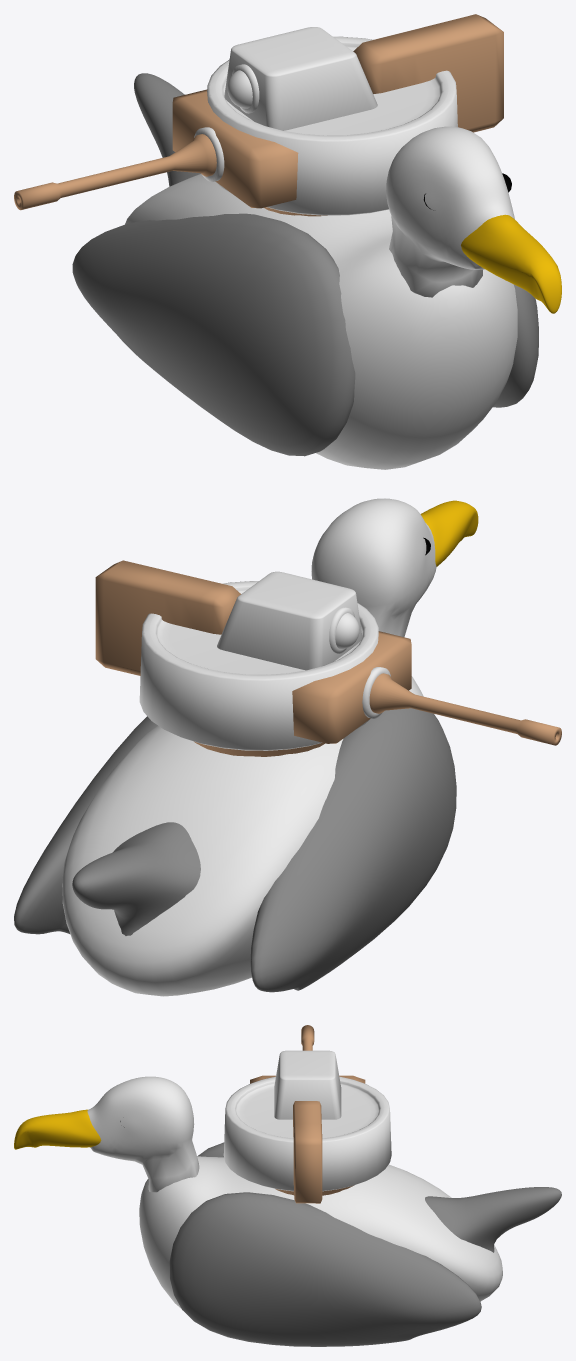
File: seagull.fbx
3 renders of one model, top to bottom at view 1: azimuth 30°, elevation 25°; view 2: azimuth 150°, elevation 25°; view 3: azimuth 270°, elevation 25°, orthographic. The views are drawn at different scales.
Parts seen in each view (by area): view 1: Seagull; view 2: Seagull; view 3: Seagull.
Part boxes in pixels (bbox=[...]): Seagull: bbox=[14, 14, 561, 469]; Seagull: bbox=[14, 498, 561, 996]; Seagull: bbox=[14, 1025, 561, 1346].
Size of the model in its own units: 901 by 709 by 1362.
